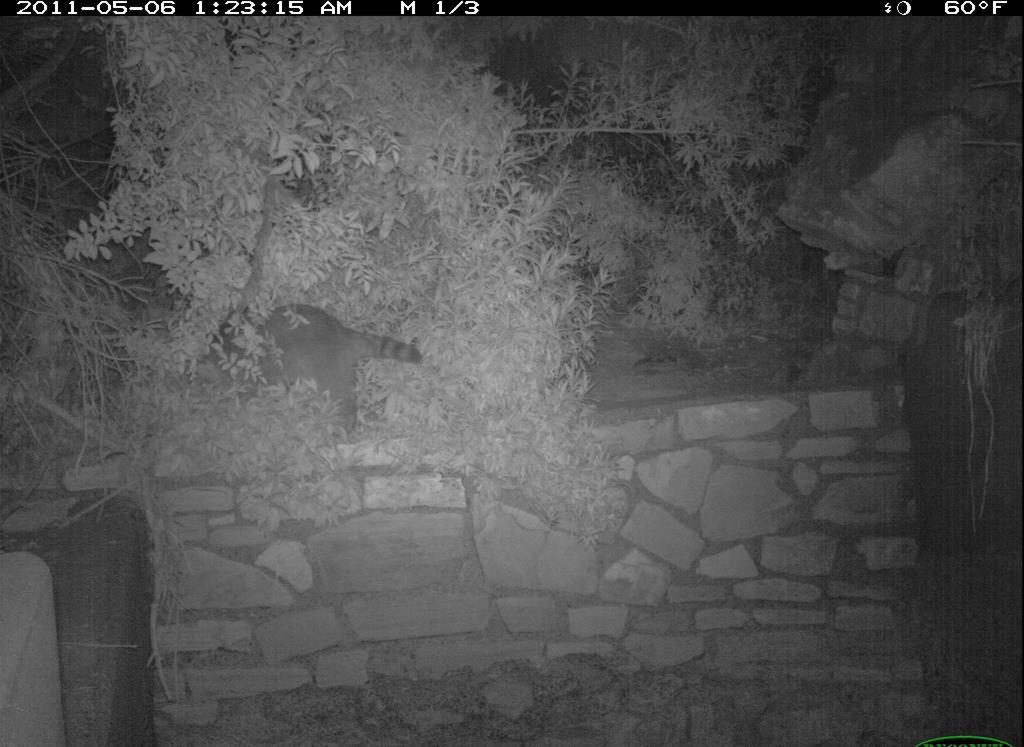raccoon: (228, 286, 428, 445)
